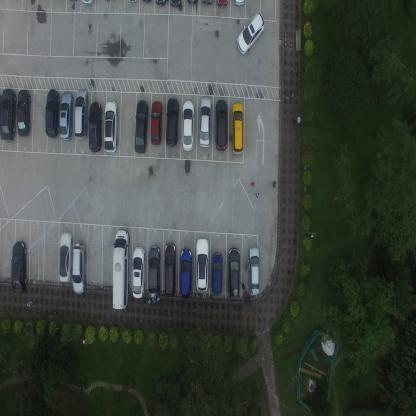car: (112, 228, 130, 310), (236, 10, 265, 56), (0, 87, 16, 142), (11, 240, 27, 294), (230, 101, 244, 157), (134, 99, 148, 155), (195, 236, 209, 292), (74, 89, 89, 140), (59, 91, 74, 142), (45, 87, 60, 138), (104, 99, 118, 153), (163, 243, 177, 297), (132, 245, 146, 299), (72, 241, 86, 295), (147, 245, 161, 298), (16, 88, 31, 137), (198, 96, 212, 148), (165, 96, 179, 148), (88, 101, 102, 153), (178, 248, 192, 300), (58, 231, 72, 283), (227, 247, 240, 302), (215, 98, 228, 152), (181, 99, 194, 153), (247, 244, 260, 296), (150, 99, 162, 146), (211, 251, 223, 296), (80, 0, 95, 8), (216, 0, 230, 8), (169, 0, 183, 8), (201, 0, 214, 8), (234, 0, 246, 8), (155, 0, 168, 7), (187, 0, 198, 8)
